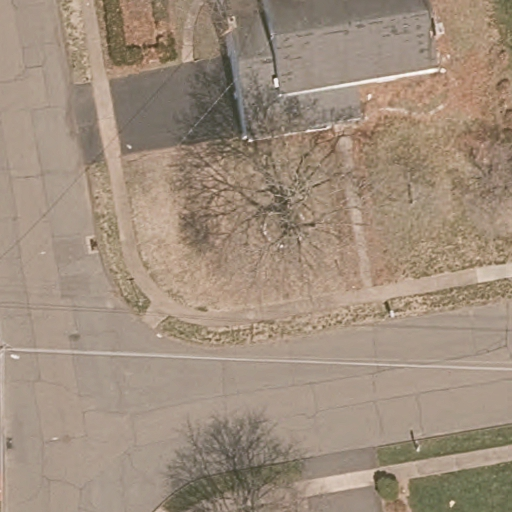DT: (1, 340, 22, 361)
